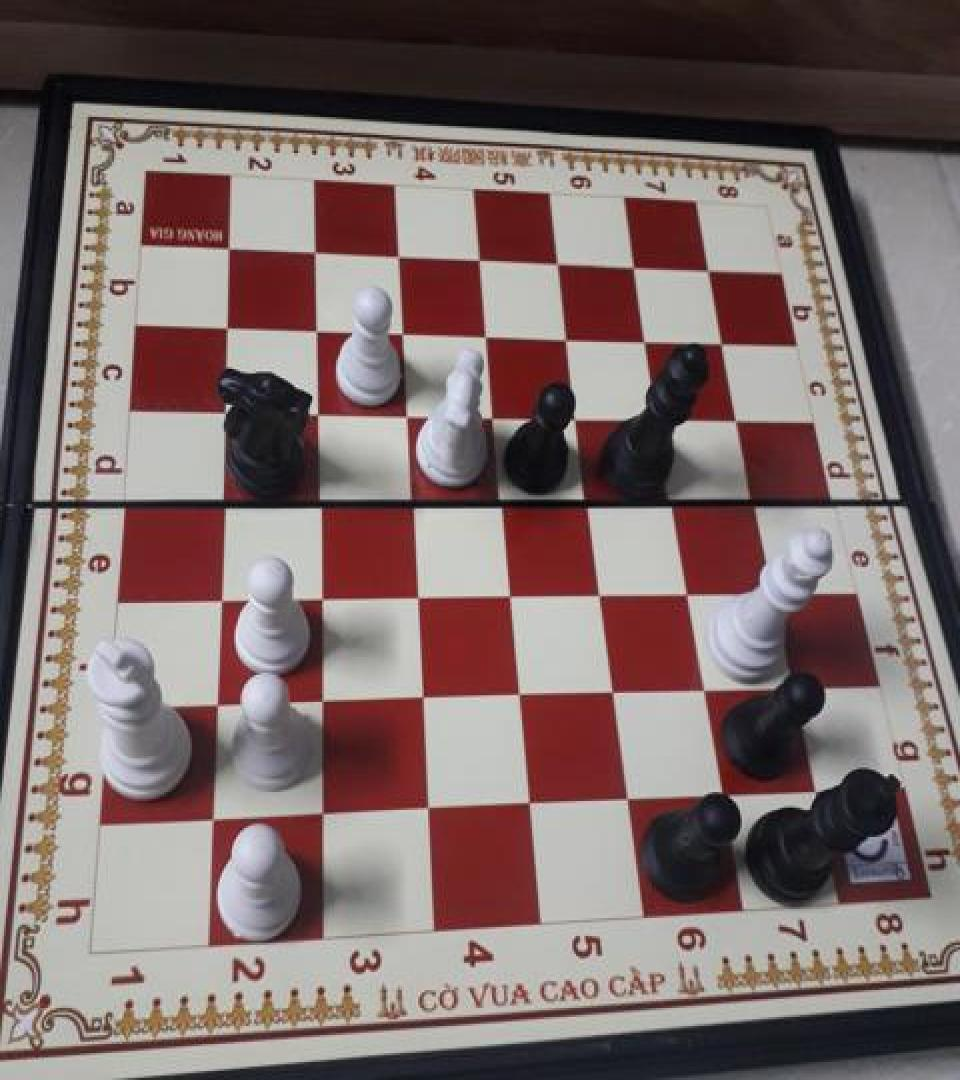xcorner: (385, 309, 419, 348), (596, 669, 630, 708), (692, 250, 726, 288), (617, 246, 651, 284), (540, 242, 574, 280), (461, 238, 495, 276), (380, 234, 414, 272), (297, 231, 331, 269), (212, 226, 246, 264), (706, 322, 740, 360), (629, 318, 663, 356), (550, 316, 584, 354), (468, 313, 502, 351), (298, 306, 332, 344), (210, 304, 244, 342), (722, 398, 756, 436), (642, 396, 676, 434), (560, 395, 594, 433), (476, 393, 510, 431), (389, 390, 423, 428), (300, 388, 334, 426), (208, 386, 242, 424), (738, 480, 772, 518), (656, 480, 690, 518), (571, 480, 605, 518), (484, 478, 518, 516), (394, 478, 428, 516), (301, 477, 335, 515), (205, 476, 239, 514), (756, 570, 790, 608), (671, 570, 705, 608), (583, 570, 617, 608), (492, 572, 526, 610), (399, 573, 433, 611), (302, 573, 336, 611), (203, 574, 237, 612), (776, 666, 810, 704), (687, 667, 721, 705), (502, 672, 536, 710), (404, 674, 438, 712), (304, 676, 338, 714), (200, 680, 234, 718), (797, 770, 831, 808), (705, 773, 739, 811), (610, 778, 644, 816), (512, 781, 546, 819), (410, 786, 444, 824), (305, 790, 339, 828), (197, 794, 231, 832)
